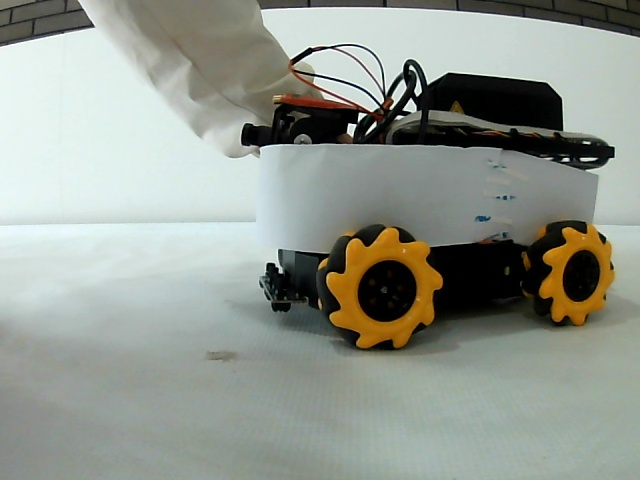car: (250, 64, 615, 349)
paper: (261, 147, 597, 228)
